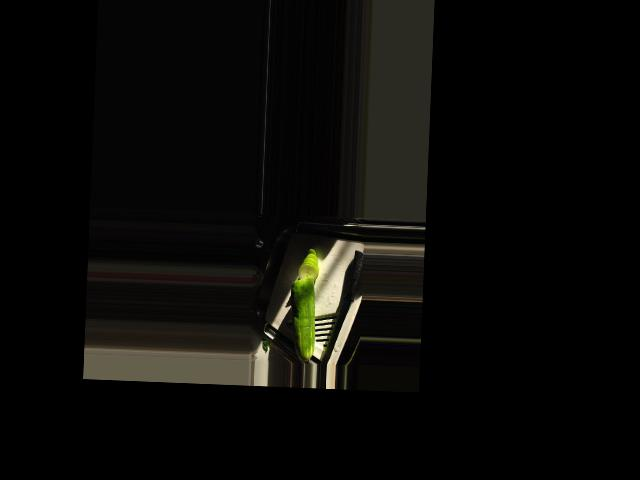cucumber: (289, 276, 317, 361)
